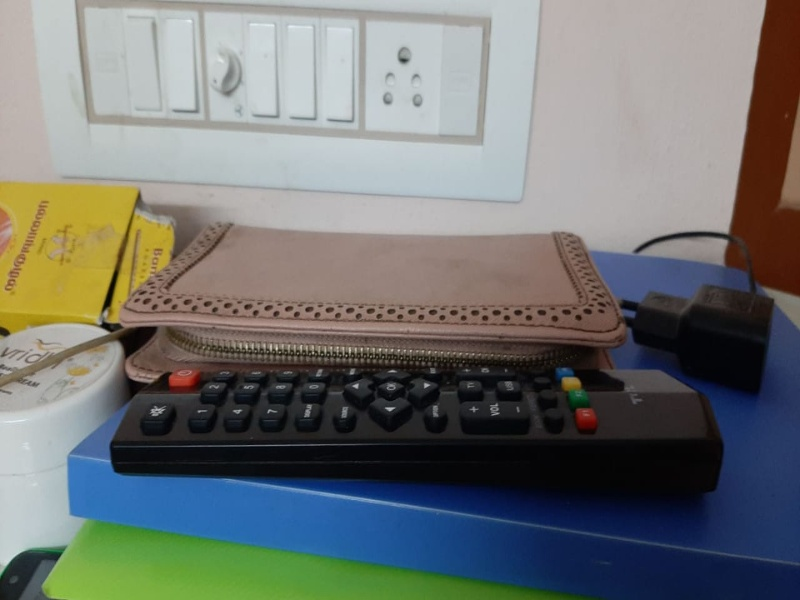remote: (109, 361, 728, 518)
